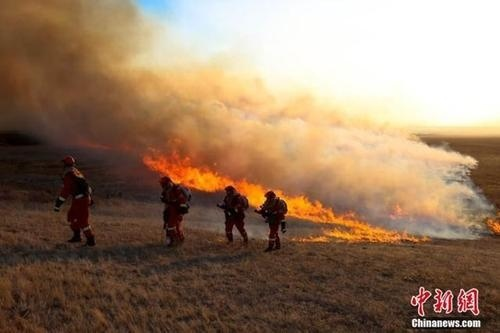fire: (147, 134, 437, 242)
